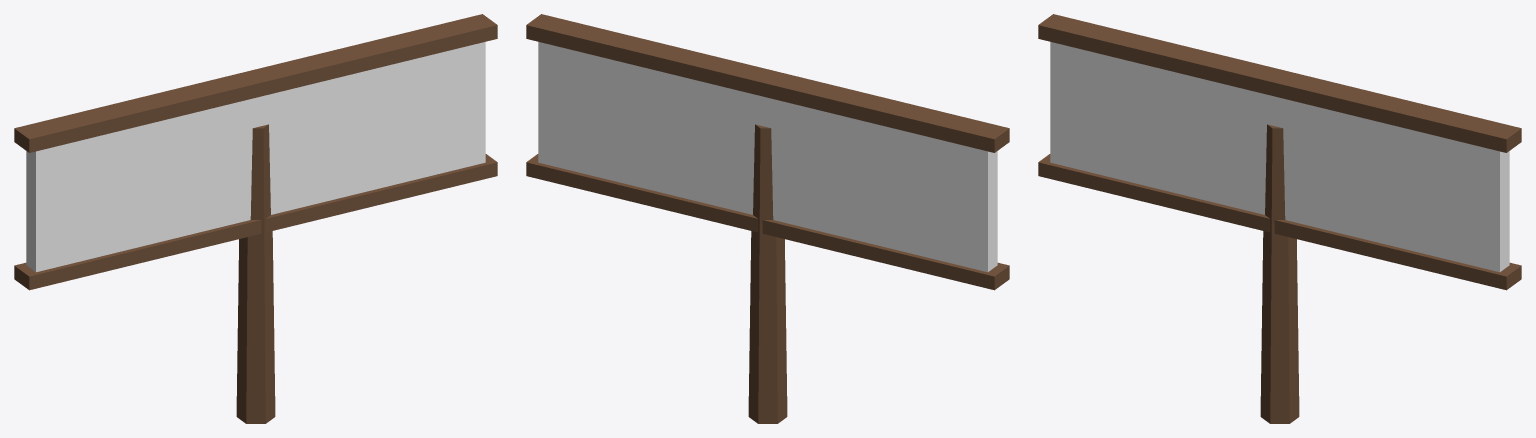
Rendered from sign.glb.
3 renders of one model, left to right at view 1: azimuth 30°, elevation 25°; view 2: azimuth 150°, elevation 25°; view 3: azimuth 330°, elevation 25°, orthographic.
Parts seen in each view (by area): view 1: Sign_Board, sign; view 2: Sign_Board, sign; view 3: Sign_Board, sign.
Part boxes in pixels (x1,y1,x2,y2): Sign_Board: (26,42,485,272); sign: (14,14,497,423); Sign_Board: (538,42,997,272); sign: (526,14,1009,423); Sign_Board: (1050,42,1509,272); sign: (1038,14,1521,423).
Size of the model in its own units: 2.5 by 1.74 by 0.18.
